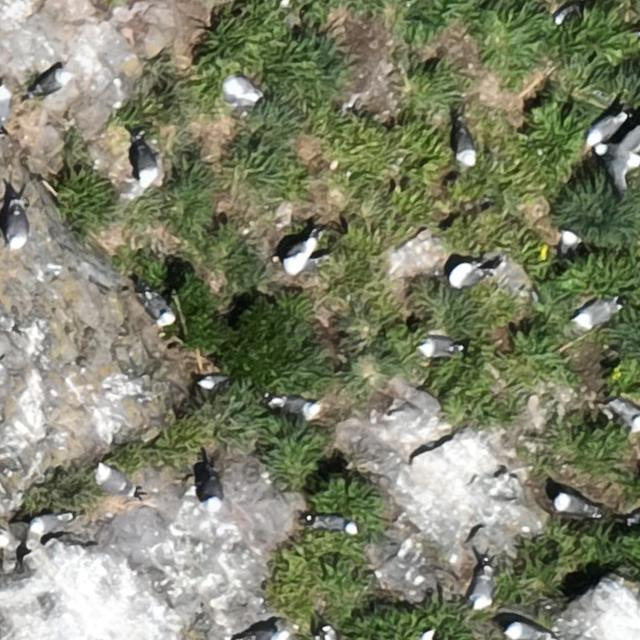F: (600, 128, 640, 182)
umineko: (192, 455, 232, 514), (99, 468, 136, 496), (588, 115, 620, 145), (575, 301, 613, 325), (285, 244, 313, 273), (225, 78, 258, 102), (146, 294, 172, 324), (457, 126, 477, 164), (472, 571, 492, 609), (35, 71, 68, 94), (273, 396, 315, 414), (8, 211, 28, 248), (451, 265, 483, 287), (613, 402, 639, 429), (138, 147, 157, 183), (556, 496, 590, 516), (31, 514, 65, 534), (315, 515, 355, 531), (420, 338, 456, 355), (507, 623, 542, 639), (562, 230, 580, 253), (0, 312, 18, 331), (198, 375, 222, 389), (0, 88, 9, 122)
